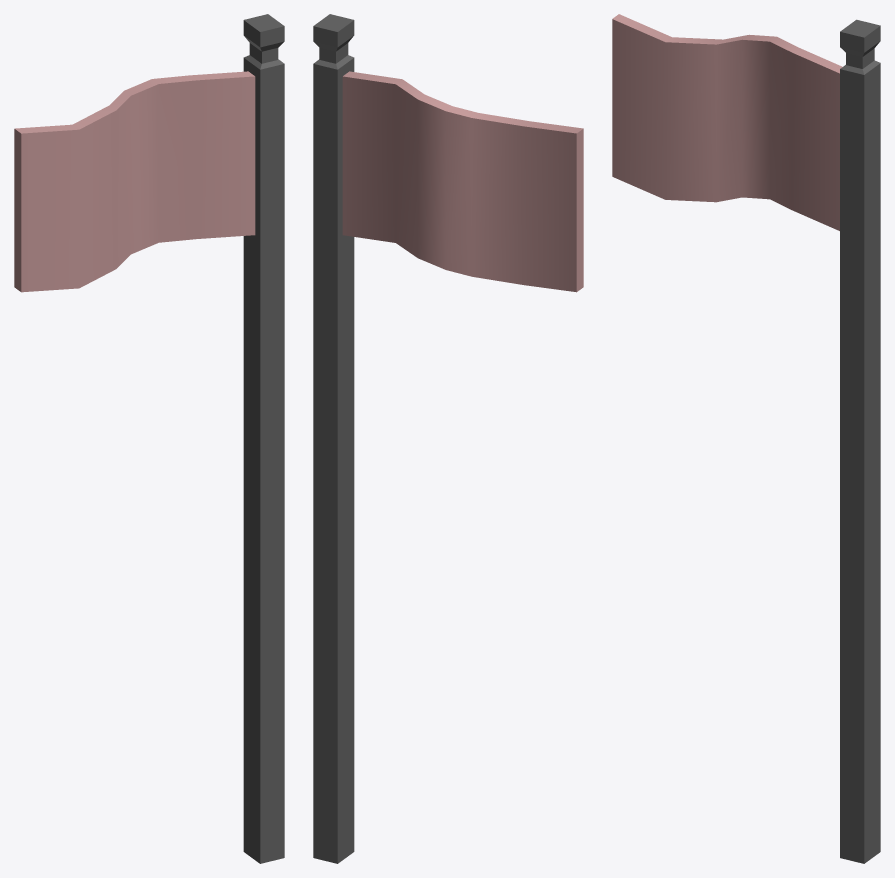
The model's file is flag.fbx.
3 views of the same model, side by side, from view 1: azimuth 30°, elevation 25°; view 2: azimuth 150°, elevation 25°; view 3: azimuth 330°, elevation 25° (orthographic).
Parts seen in each view (by area): view 1: Polyadd.001; view 2: Polyadd.001; view 3: Polyadd.001.
Boxes of the visible parts, left/top/right/bottom form: Polyadd.001: left=14, top=14, right=284, bottom=863; Polyadd.001: left=313, top=14, right=583, bottom=863; Polyadd.001: left=612, top=14, right=880, bottom=863.
Bounding box in the file's own units: 12.43 × 38.2 × 1.86.
